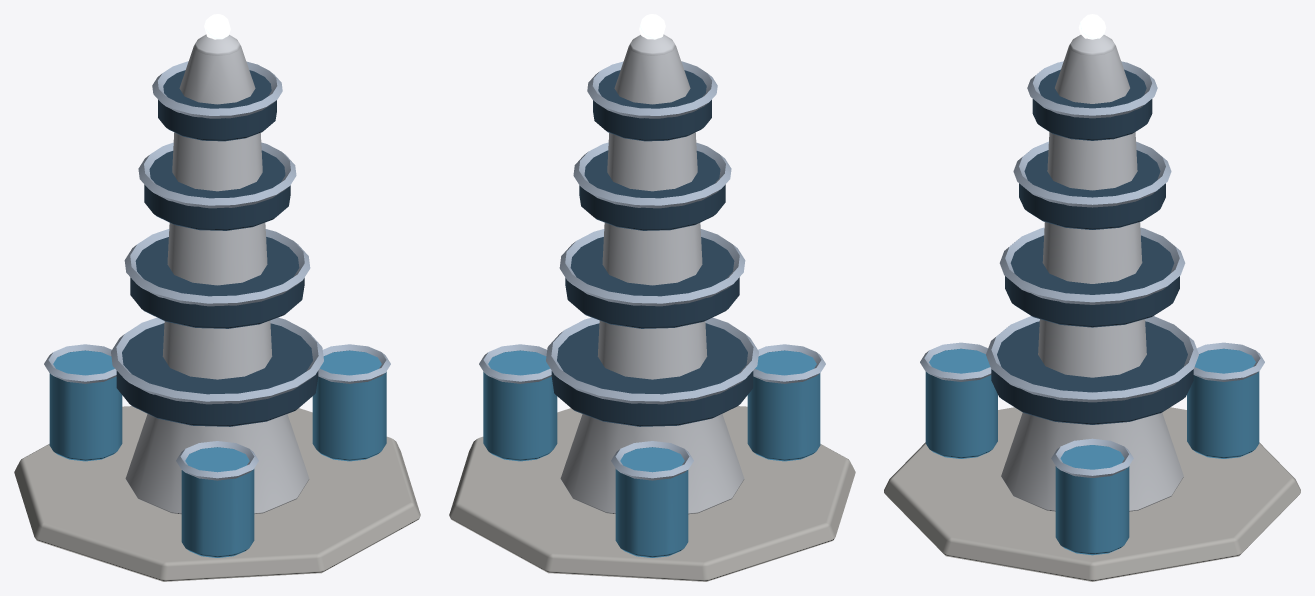
The model's file is hydrospire.glb.
The picture shows the model from 3 angles, left to right: view 1: azimuth 30°, elevation 25°; view 2: azimuth 150°, elevation 25°; view 3: azimuth 270°, elevation 25°; orthographic projection.
Visible parts, largest first — view 1: hydrospire; view 2: hydrospire; view 3: hydrospire.
Boxes of the visible parts, x1,y1,x2,y2 form: hydrospire: (14,14,420,581); hydrospire: (449,14,855,581); hydrospire: (884,14,1300,581).
Size of the model in its own units: 0.907 by 1.15 by 0.907.
